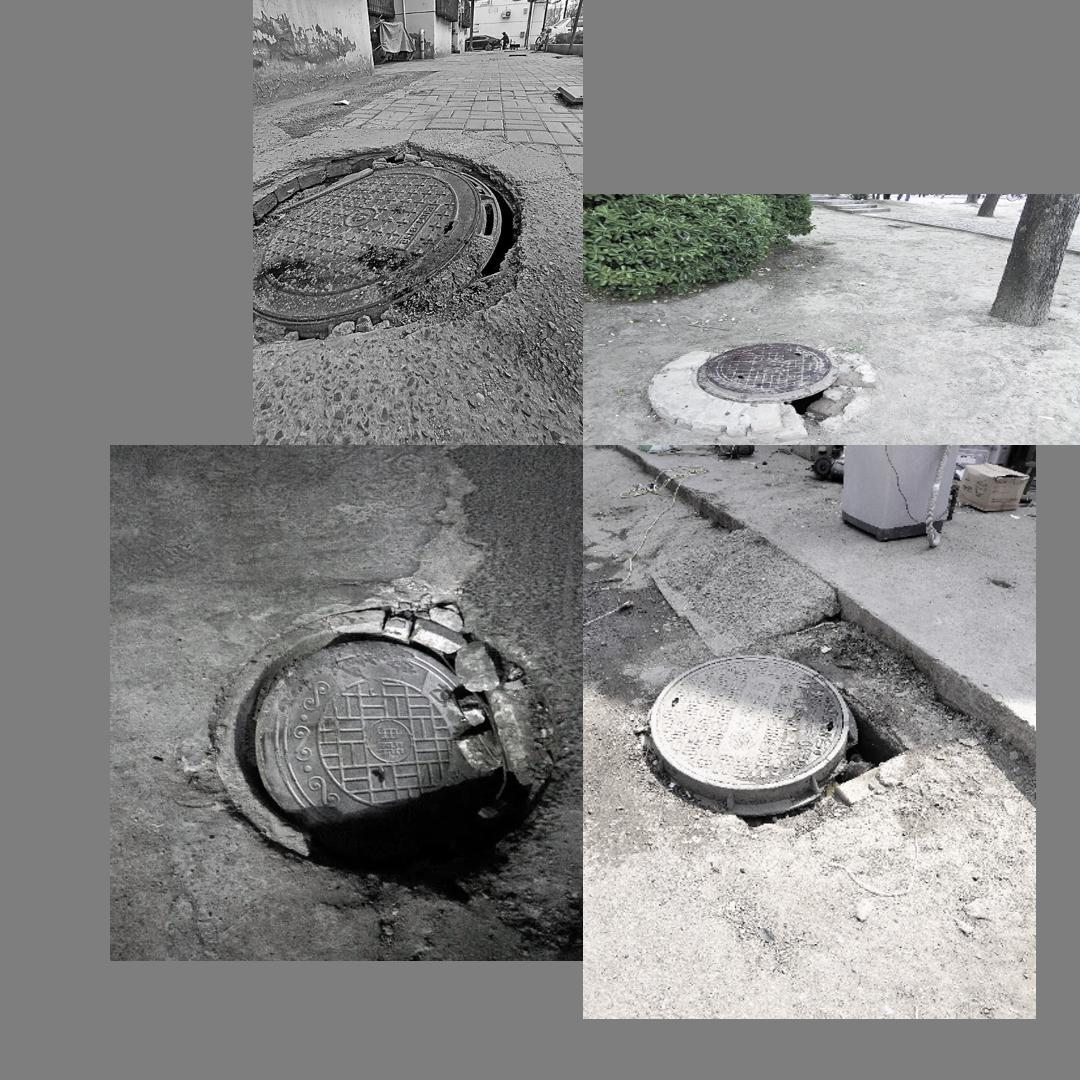circle: (197, 606, 568, 883), (253, 129, 539, 402), (637, 644, 888, 822), (641, 339, 888, 433)
